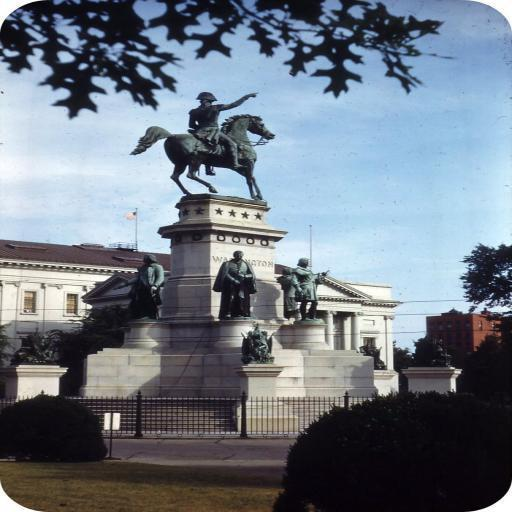horse: (124, 112, 278, 201)
